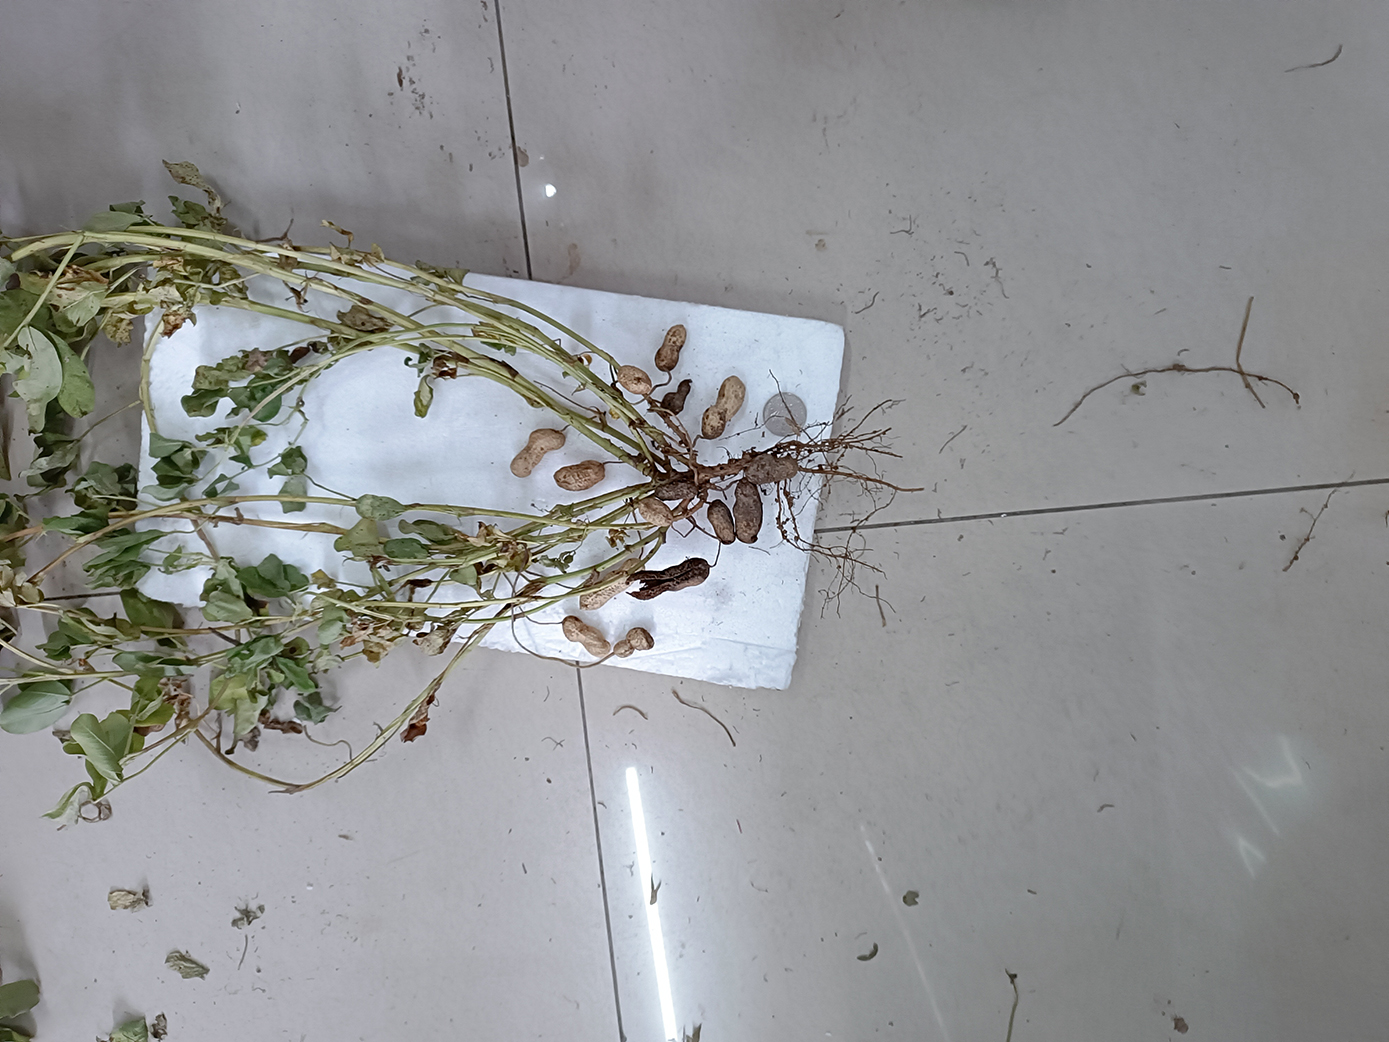h: (701, 375, 746, 438), (510, 429, 565, 478), (580, 570, 629, 611), (562, 616, 611, 657), (553, 460, 606, 493), (614, 627, 653, 658), (617, 364, 652, 394), (639, 499, 673, 526)
l: (627, 557, 710, 600), (732, 478, 763, 543), (743, 453, 799, 484), (653, 324, 687, 372), (706, 497, 736, 546), (660, 378, 691, 414), (655, 477, 696, 501)
